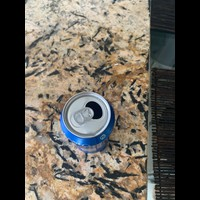tonica: (56, 85, 118, 155)
